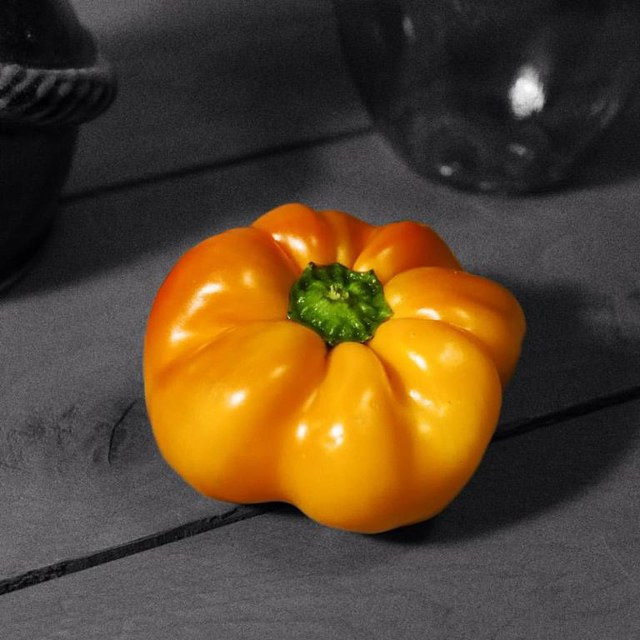tomato: (141, 203, 526, 533)
